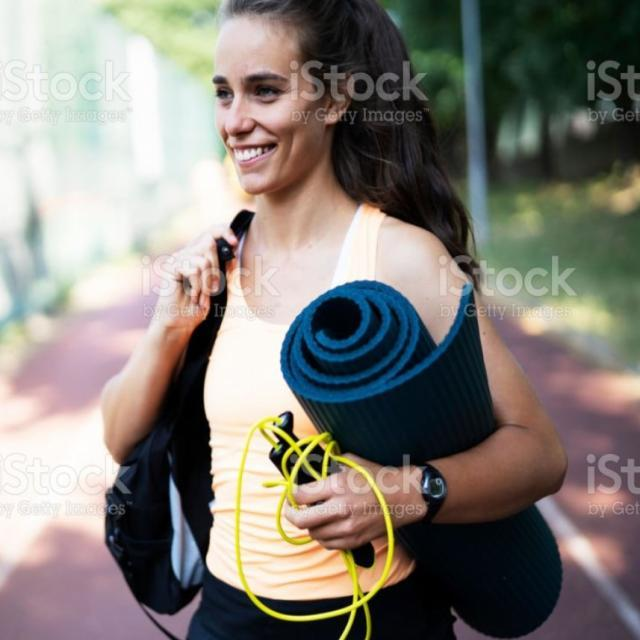Watch: (411, 454, 448, 538)
